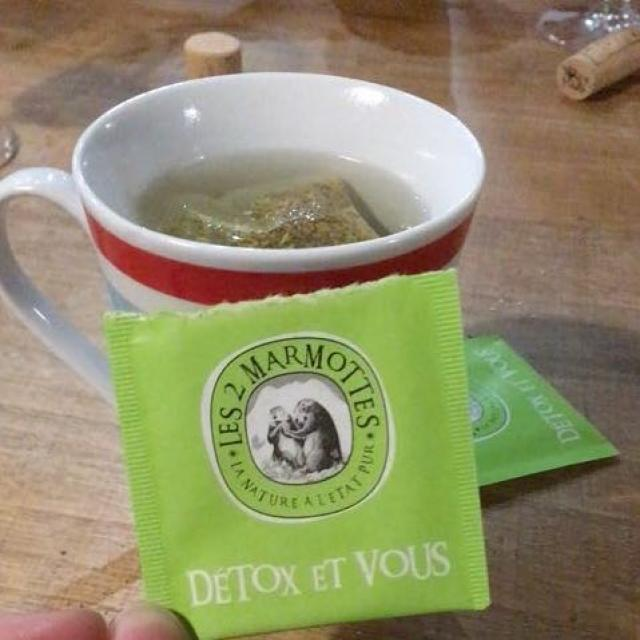herbal-tea: (138, 152, 410, 245)
